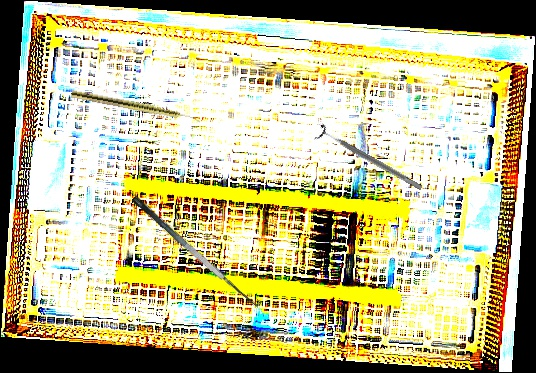Fixation Ring: (313, 122, 427, 197)
Handpiece: (70, 89, 202, 125)
Spatula Surgical: (130, 184, 267, 315)
